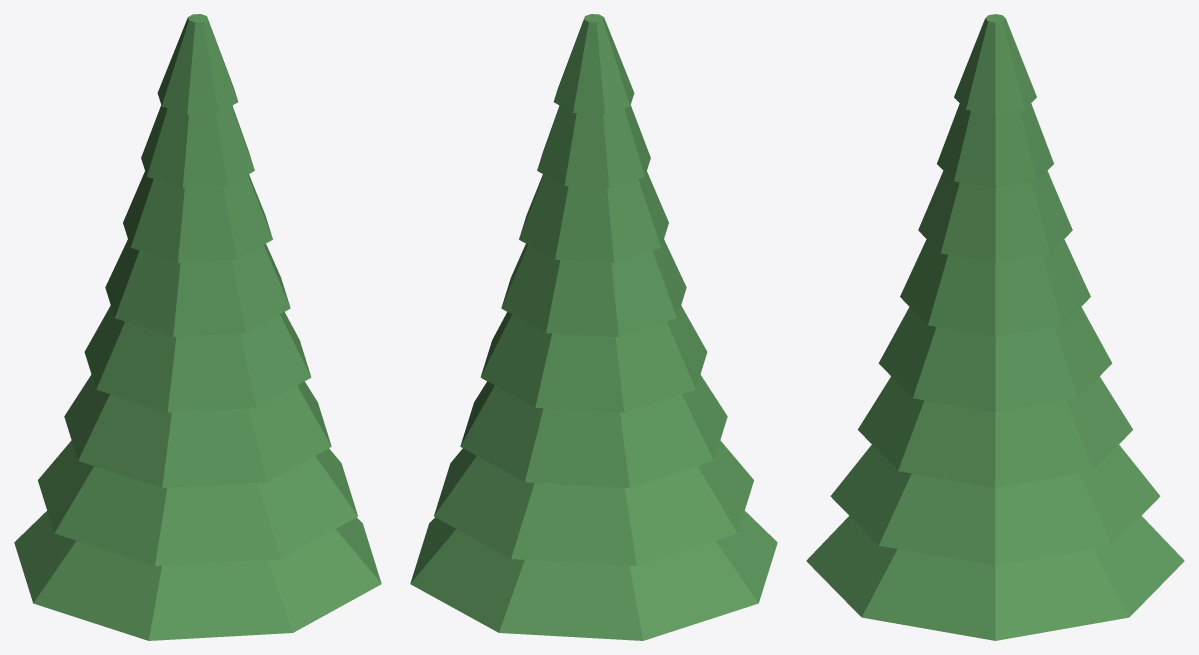
The model's file is pine.glb.
3 renders of one model, left to right at view 1: azimuth 30°, elevation 25°; view 2: azimuth 150°, elevation 25°; view 3: azimuth 270°, elevation 25°, orthographic.
Visible parts, largest first — view 1: Cylinder; view 2: Cylinder; view 3: Cylinder.
Boxes of the visible parts, box(x1,y1,x2,y2) form: Cylinder: box(14, 14, 381, 640); Cylinder: box(410, 14, 777, 640); Cylinder: box(806, 14, 1184, 640).
Size of the model in its own units: 7.76 by 13.24 by 7.76.
